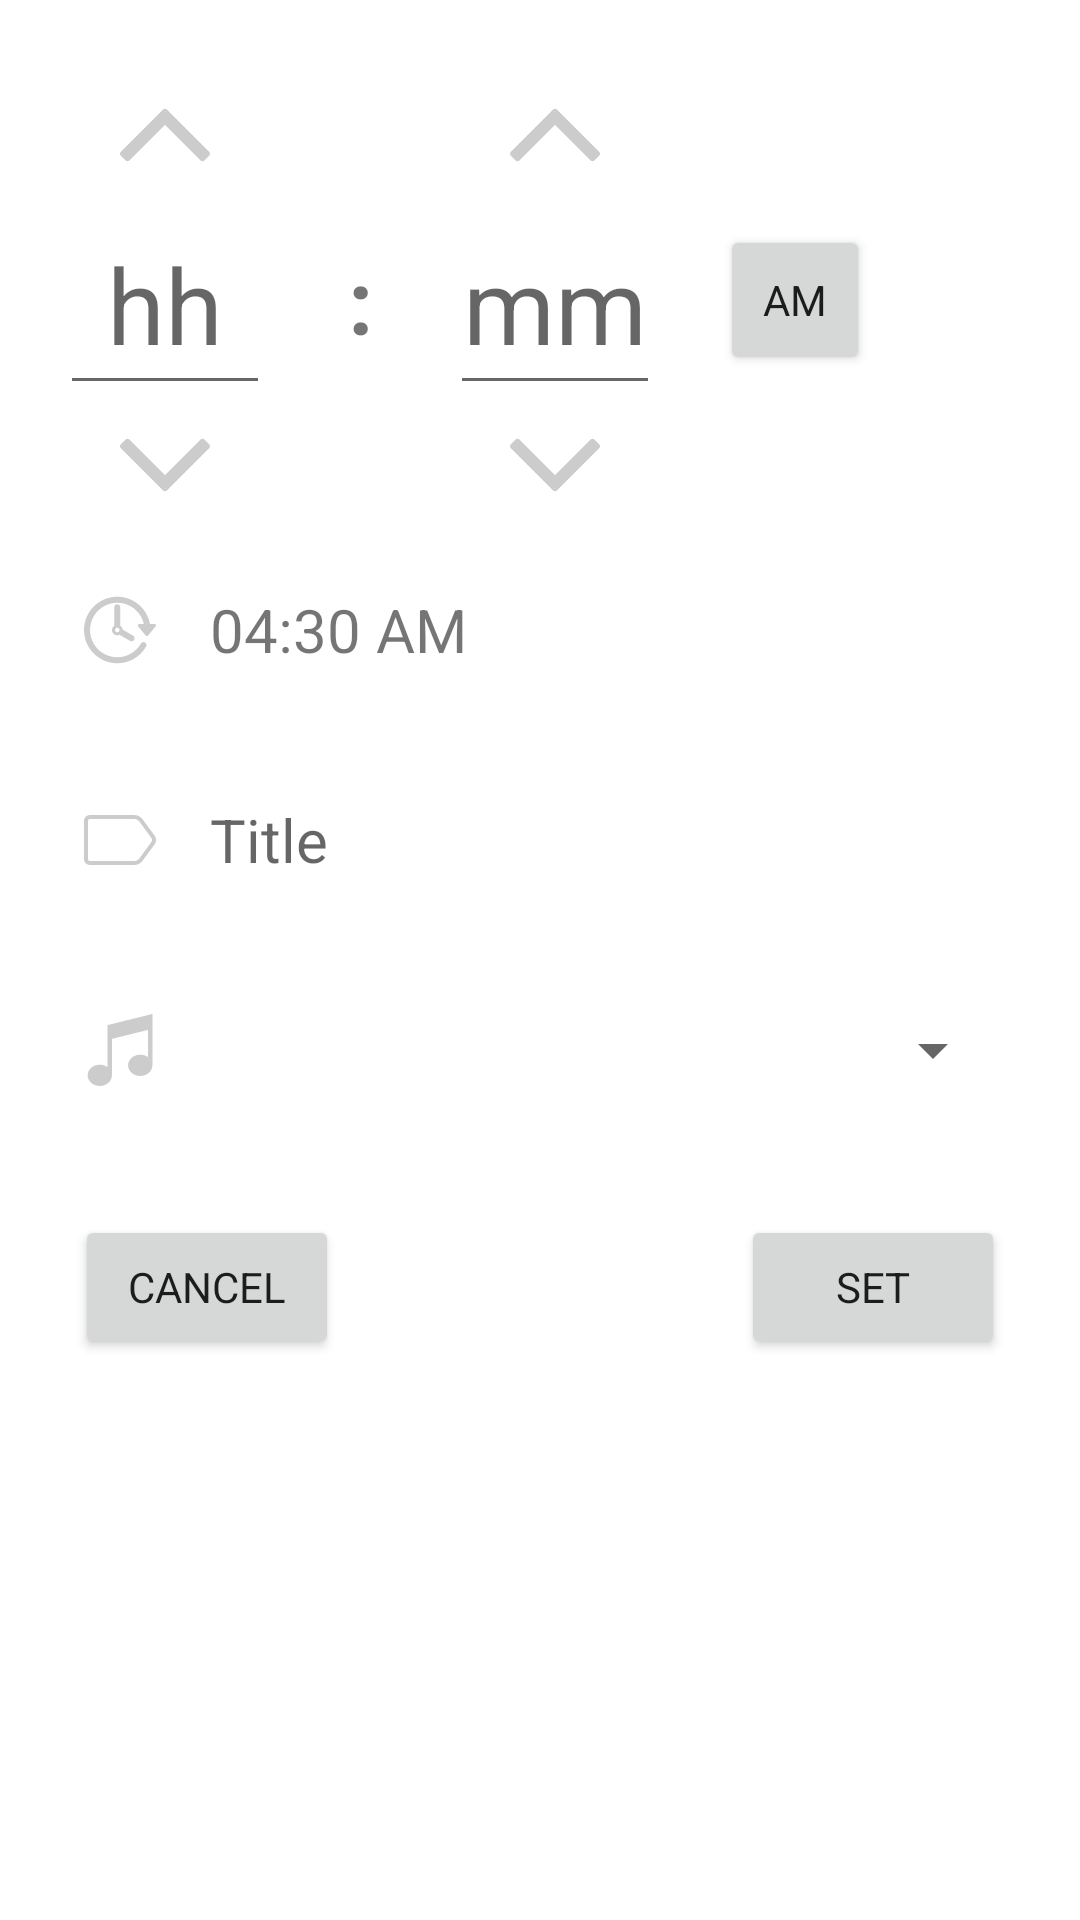

Screen size 1080 × 1920. Icon name, then its box in pixels as (x1, y1, x2, y2):
clock: (84, 597, 156, 663)
down arrow: (120, 439, 210, 491), (510, 439, 600, 491)
tone: (88, 1014, 153, 1086)
up arrow: (120, 109, 210, 161), (510, 109, 600, 161)
